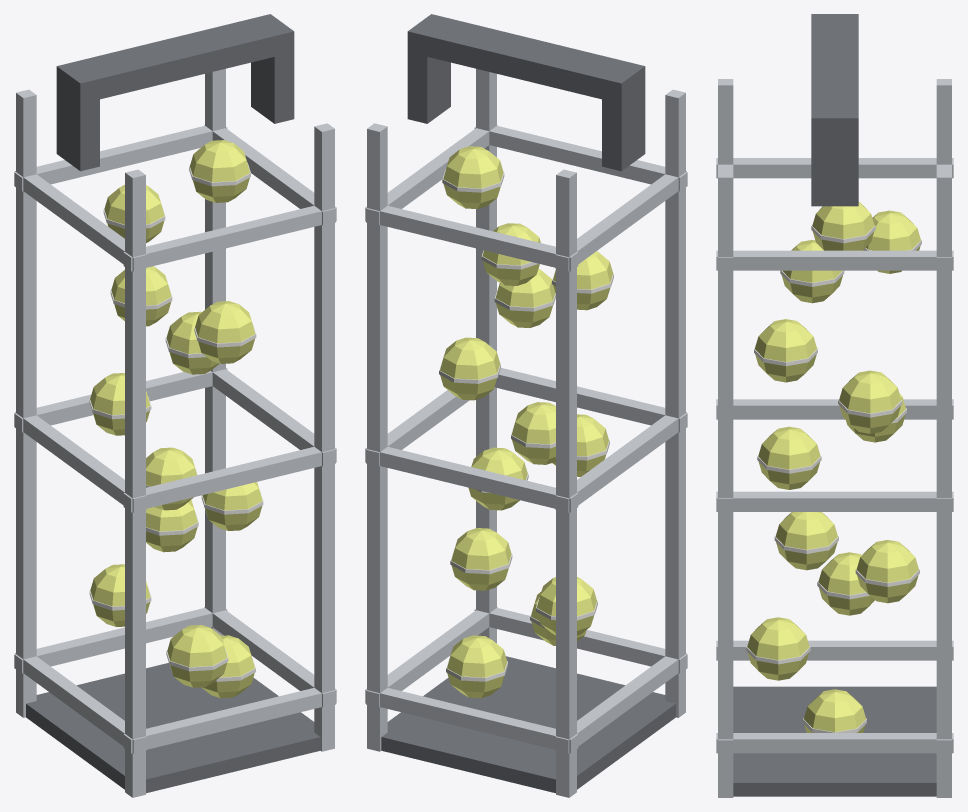
The model's file is tennis-club-and-courts-ball-hopper-3c8f620f__33618.glb.
3 views of the same model, side by side, from view 1: azimuth 30°, elevation 25°; view 2: azimuth 150°, elevation 25°; view 3: azimuth 270°, elevation 25° (orthographic).
Parts seen in each view (by area): view 1: ball-hopper; view 2: ball-hopper; view 3: ball-hopper.
Boxes of the visible parts, x1,y1,x2,y2 form: ball-hopper: (14,14,336,797); ball-hopper: (365,14,687,797); ball-hopper: (716,14,953,797).
Bounding box in the file's own units: 0.26 × 0.792 × 0.25.
